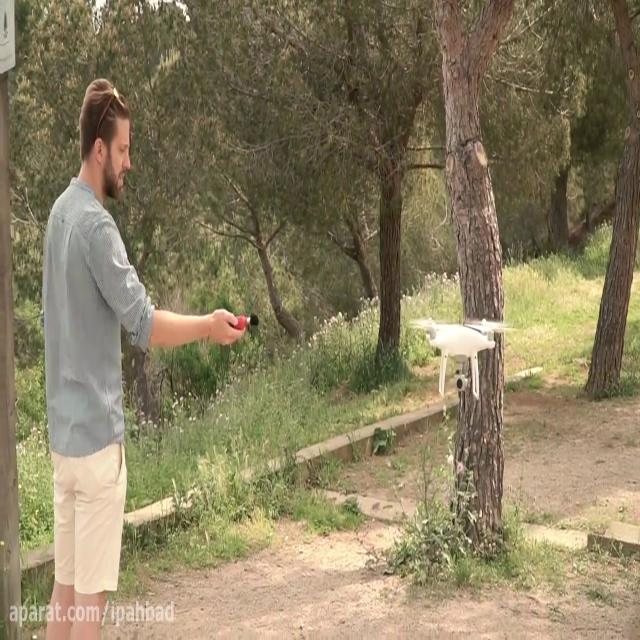drone: (409, 316, 517, 401)
